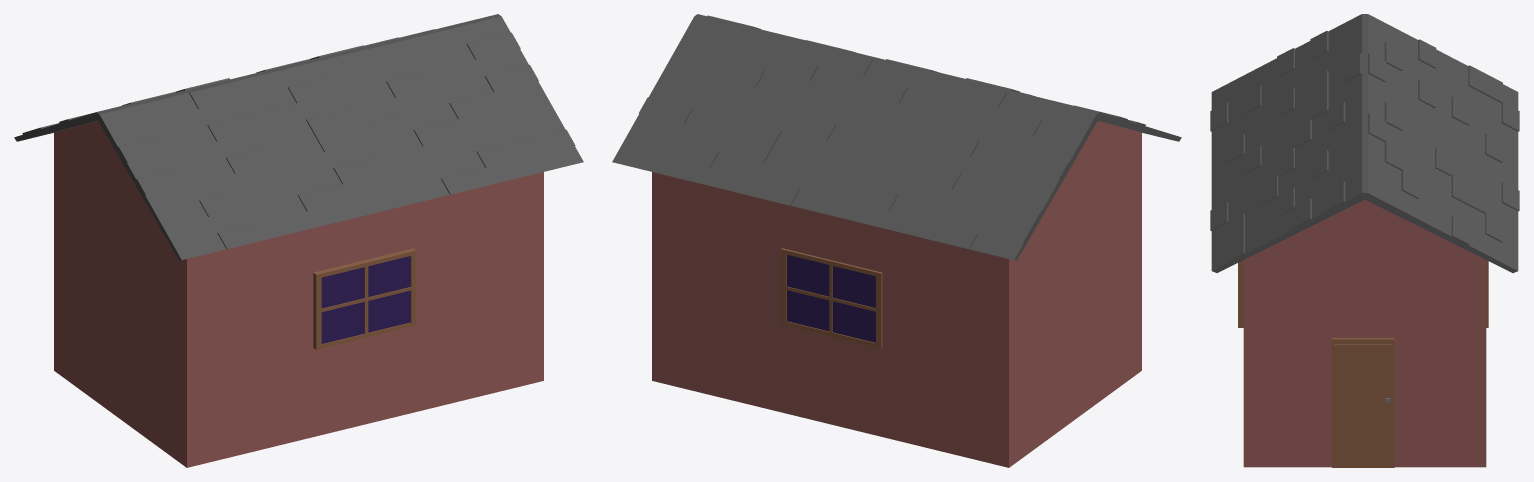
Rendered from House 1.fbx.
3 renders of one model, left to right at view 1: azimuth 30°, elevation 25°; view 2: azimuth 150°, elevation 25°; view 3: azimuth 270°, elevation 25°, orthographic. The views are drawn at different scales.
Parts seen in each view (by area): view 1: Cube, Cube.001, Cube.005; view 2: Cube, Cube.001, Cube.004; view 3: Cube.001, Cube, Cube.002, Cube.005.
Part boxes in pixels (box(x1,y1,x2,y2)): Cube: box(54, 121, 543, 467); Cube.001: box(14, 14, 583, 260); Cube.005: box(313, 248, 416, 349); Cube: box(652, 121, 1141, 467); Cube.001: box(612, 14, 1181, 260); Cube.004: box(781, 248, 882, 348); Cube.001: box(1210, 14, 1519, 272); Cube: box(1243, 200, 1486, 467); Cube.002: box(1332, 338, 1394, 467); Cube.005: box(1238, 260, 1243, 327).
Bounding box in the file's own units: 1351 × 1002 × 987.
